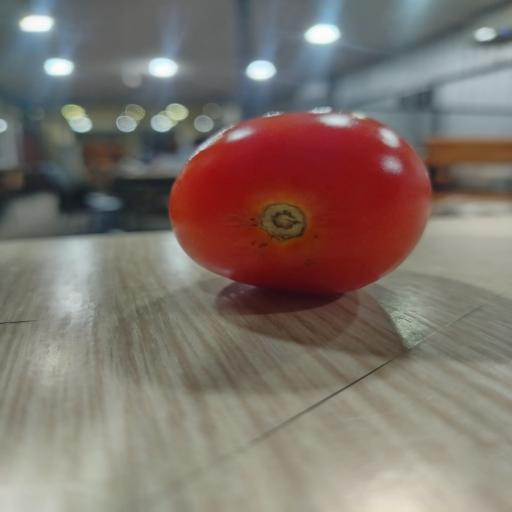ripe: (170, 109, 430, 293)
